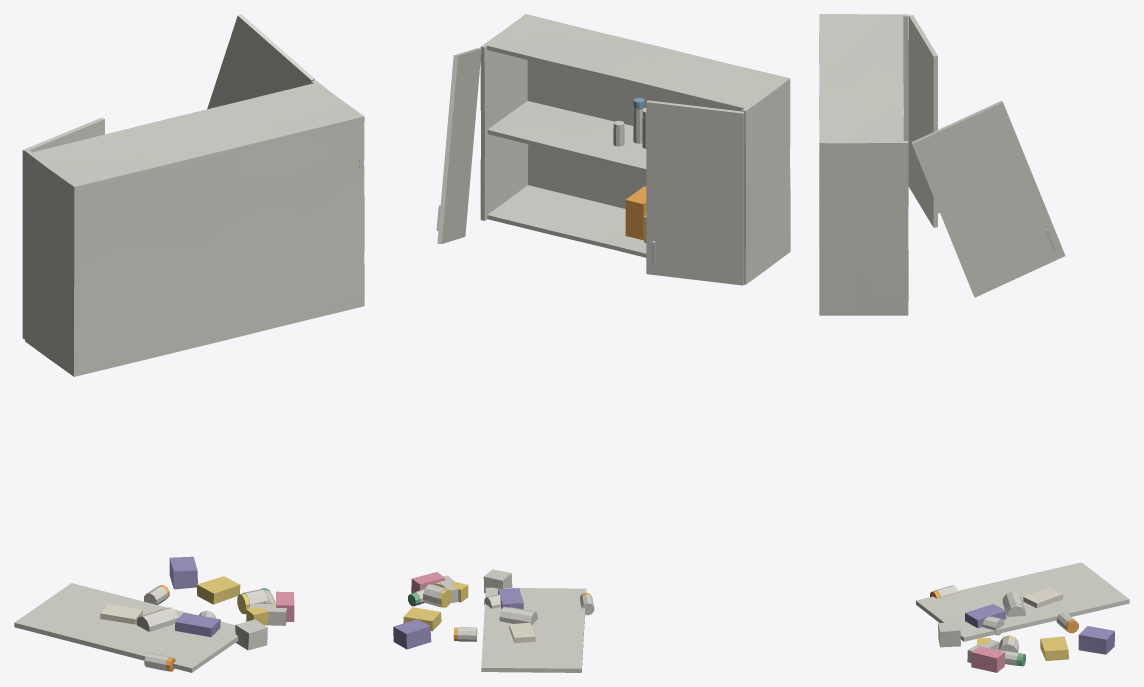
File: upper_cabinet_broken.fbx
3 views of the same model, side by side, from view 1: azimuth 30°, elevation 25°; view 2: azimuth 150°, elevation 25°; view 3: azimuth 270°, elevation 25° (orthographic). The views are drawn at different scales.
Parts seen in each view (by area): view 1: upper_cabinet_broken, upper_cabinet_broken_debris; view 2: upper_cabinet_broken, upper_cabinet_broken_debris; view 3: upper_cabinet_broken, upper_cabinet_broken_debris.
Boxes of the visible parts, left/top/right/bottom form: upper_cabinet_broken: left=22, top=14, right=364, bottom=376; upper_cabinet_broken_debris: left=14, top=556, right=294, bottom=672; upper_cabinet_broken: left=436, top=14, right=790, bottom=285; upper_cabinet_broken_debris: left=393, top=569, right=594, bottom=672; upper_cabinet_broken: left=819, top=14, right=1065, bottom=315; upper_cabinet_broken_debris: left=916, top=562, right=1129, bottom=672.
Bounding box in the file's own units: 131 × 239 × 122.
